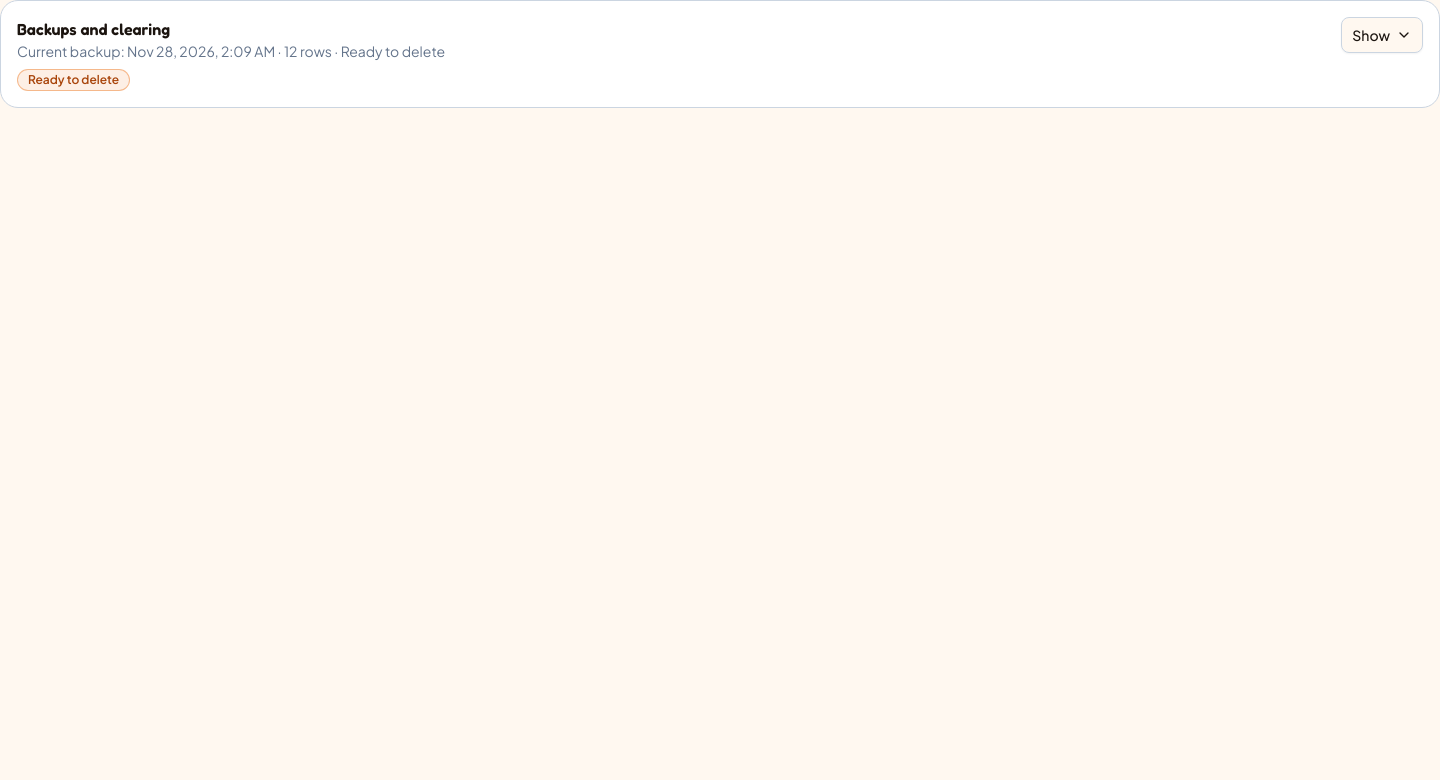
it: Activity Log backup panel › requests deletion with the backup ID and exact typed confirmation
This screenshot has width=1440, height=780.
Later steps or results of the test are not shown.
Expected: the text "Current backup:" is shown, [17,42,445,60]
Click the button with aria-label "Show backups and clearing" at (1382, 35), box [1341,17,1423,53]
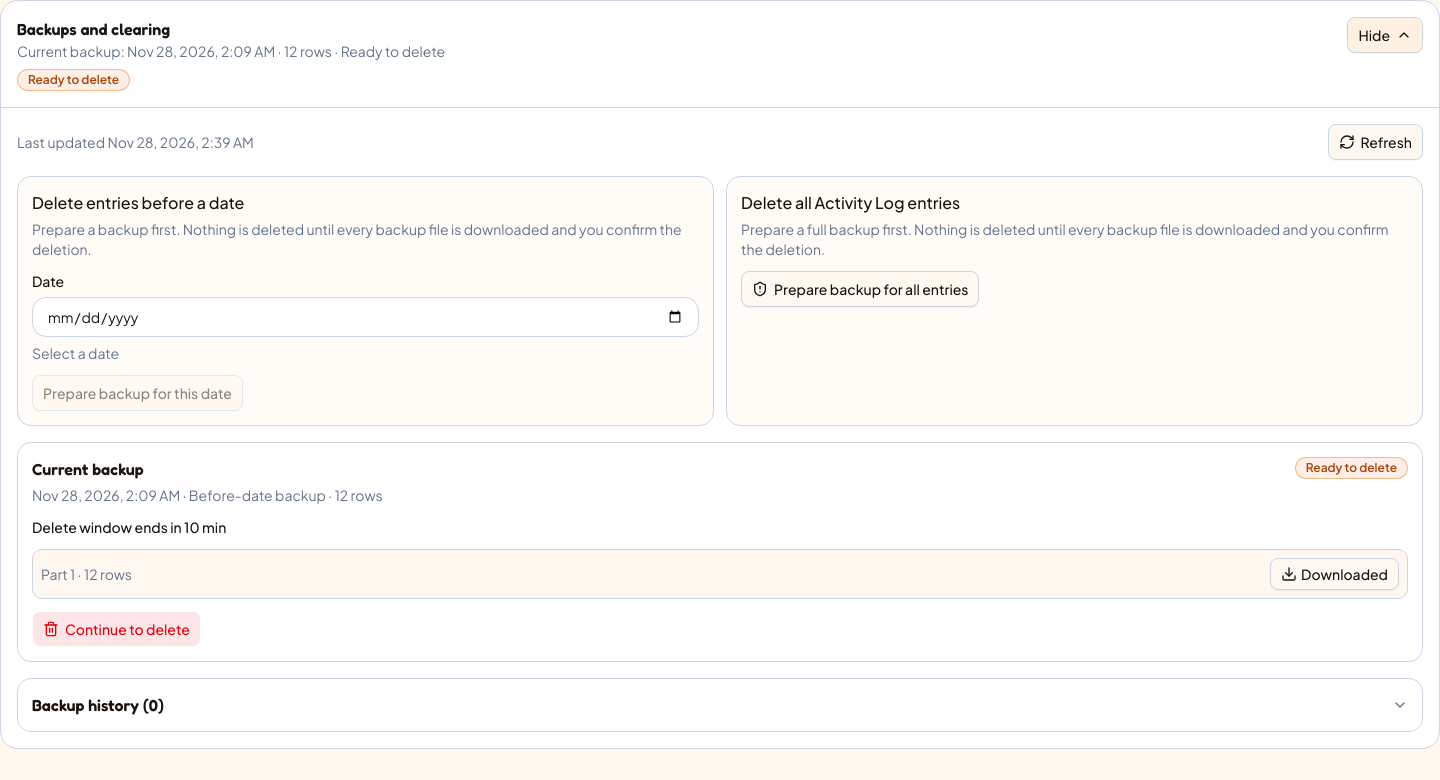
Click the button "Continue to delete" at (116, 629), box [32,611,201,647]
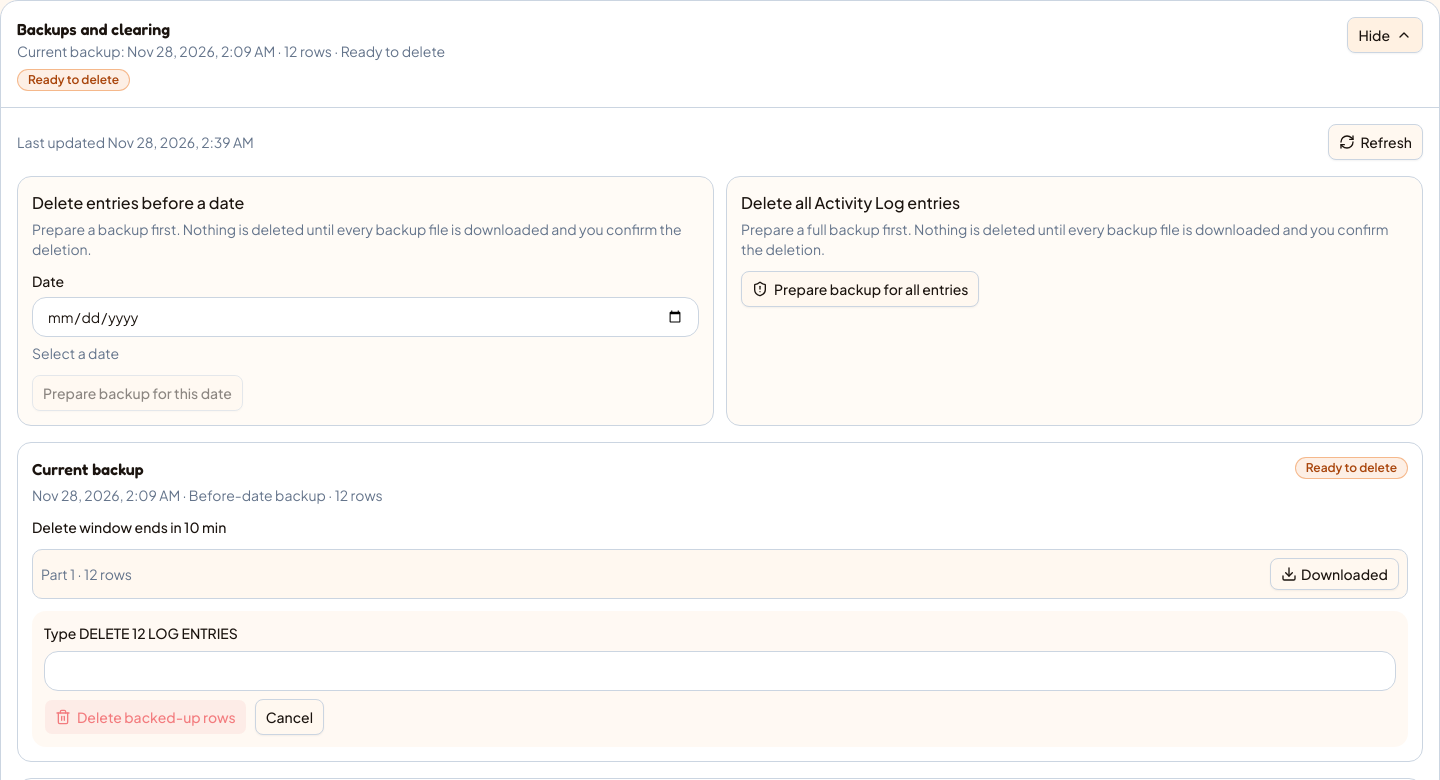
Type "DELETE 12 LOG ENTRIES" into the field labelled "Type DELETE 12 LOG ENTRIES" at (720, 671), box [44,651,1396,691]
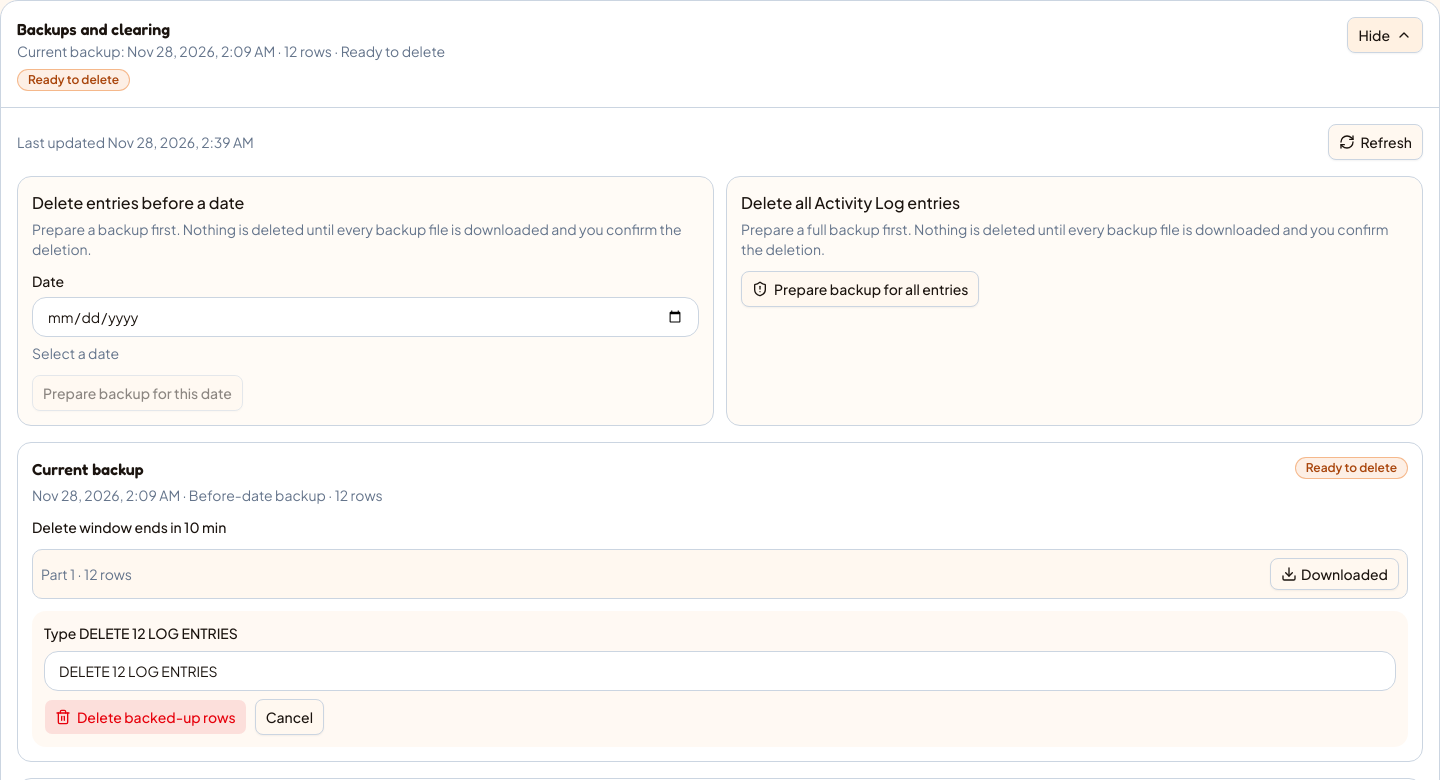
Now the button "Delete backed-up rows" is enabled, box [44,699,247,735]
